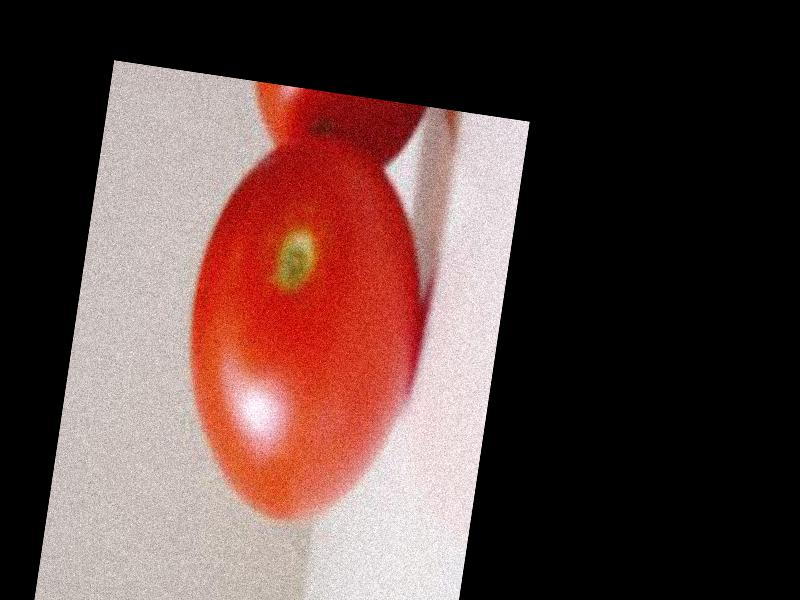Tomato: (164, 126, 443, 536)
